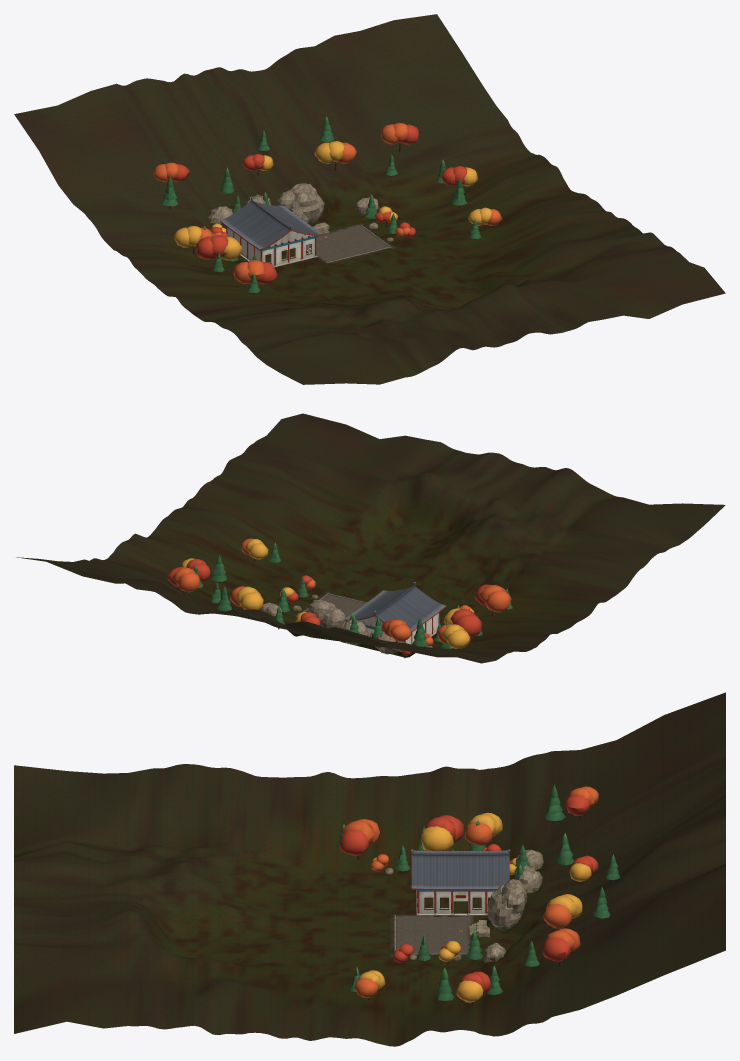
File: world.glb
3 renders of one model, top to bottom at view 1: azimuth 30°, elevation 25°; view 2: azimuth 150°, elevation 25°; view 3: azimuth 270°, elevation 25°, orthographic. The views are drawn at different scales.
Parts seen in each view (by area): view 1: ground, maple, dharmaRoof, pine, rocks, dharmaWalls; view 2: ground, maple, dharmaRoof, pine, rocks, dharmaWalls; view 3: ground, maple, dharmaRoof, pine, rocks, dharmaFront.
Boxes of the visible parts, x1,y1,x2,y2 form: ground: (14,14,725,384); maple: (153,122,502,284); dharmaRoof: (220,196,322,250); pine: (162,116,481,295); rocks: (208,183,393,241); dharmaWalls: (226,227,317,265); ground: (16,413,725,663); maple: (167,538,511,658); dharmaRoof: (345,582,446,632); pine: (194,542,512,649); rocks: (260,594,432,654); dharmaWalls: (363,612,439,644); ground: (14,692,725,1046); maple: (339,786,598,1005); dharmaRoof: (411,849,510,890); pine: (337,784,620,1003); rocks: (384,849,543,962); dharmaFront: (417,889,496,914).
Size of the model in its own units: 148 by 34.22 by 175.
Materials: 4 (3 with a texture image).
